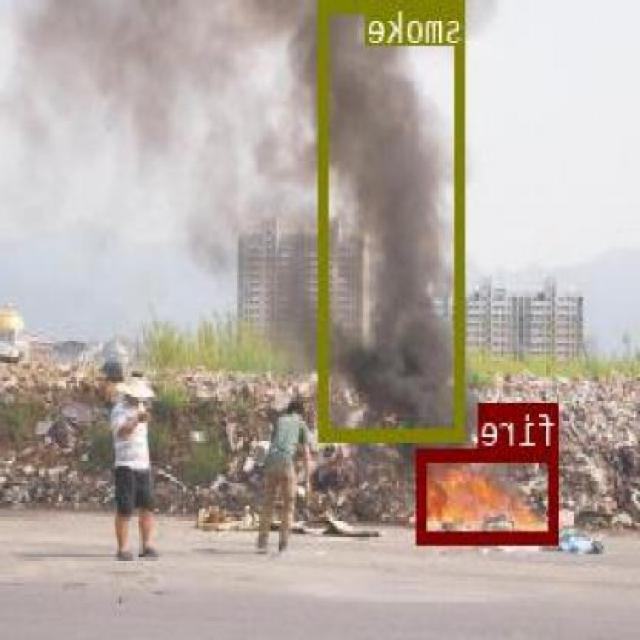Fire: (419, 446, 561, 540)
Smoke: (321, 0, 467, 440), (19, 22, 288, 212)
